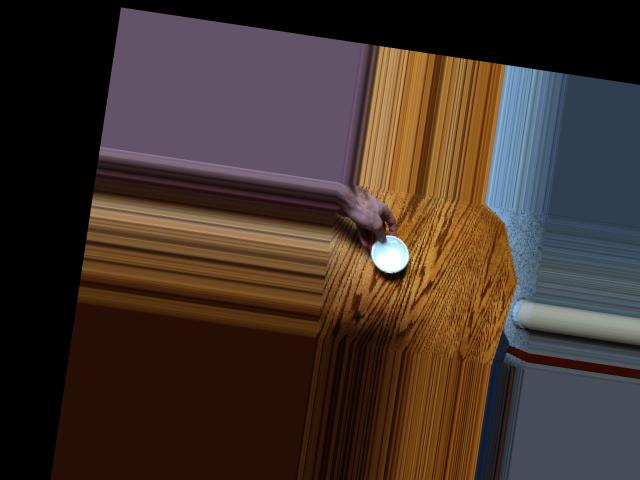cotage: (366, 231, 411, 275)
